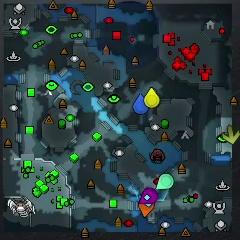p1: (133, 95, 148, 114)
p2: (156, 174, 173, 190)
p3: (139, 188, 157, 203)
p4: (145, 88, 160, 107)
p5: (139, 201, 155, 216)
x2: (222, 125, 239, 145)
